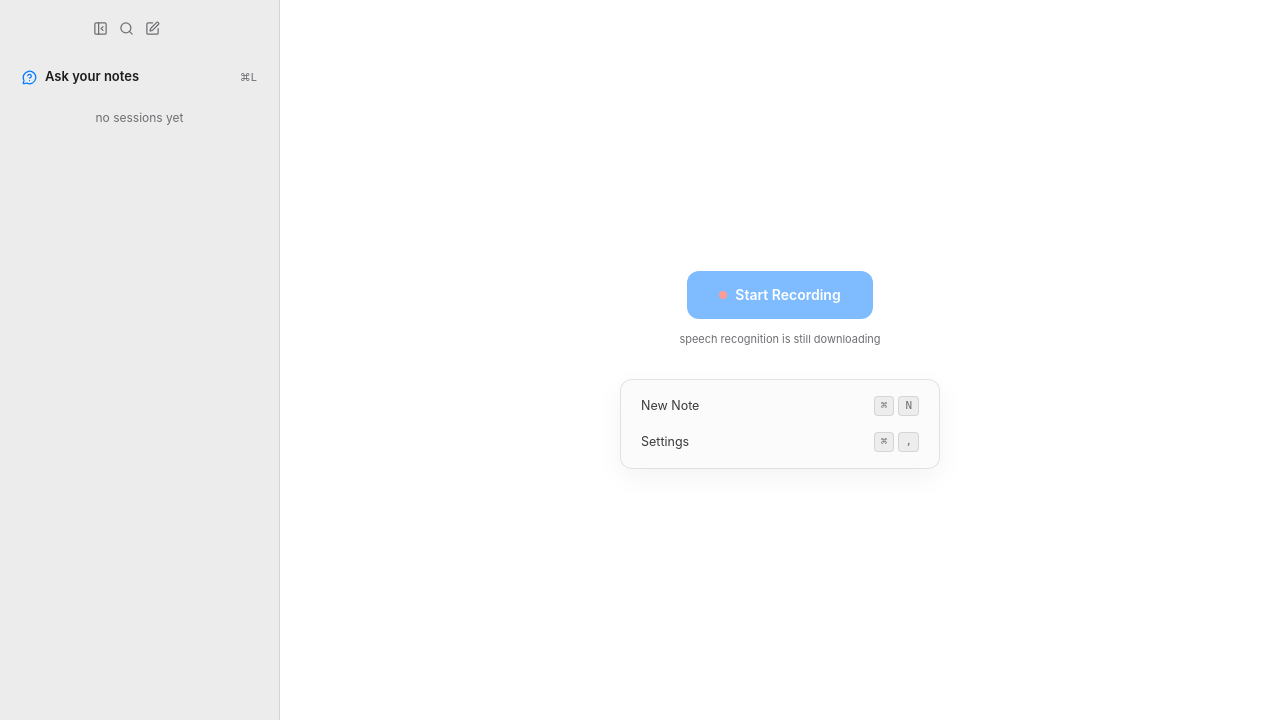
Test: App: call detection via the banner window › does not duplicate the model warning beside its toolbar action
Expected: the text "speech recognition is still downloading" is shown, [679, 331, 881, 347]
Click the button named "New Note⌘N" at (670, 405), box [629, 388, 931, 424]
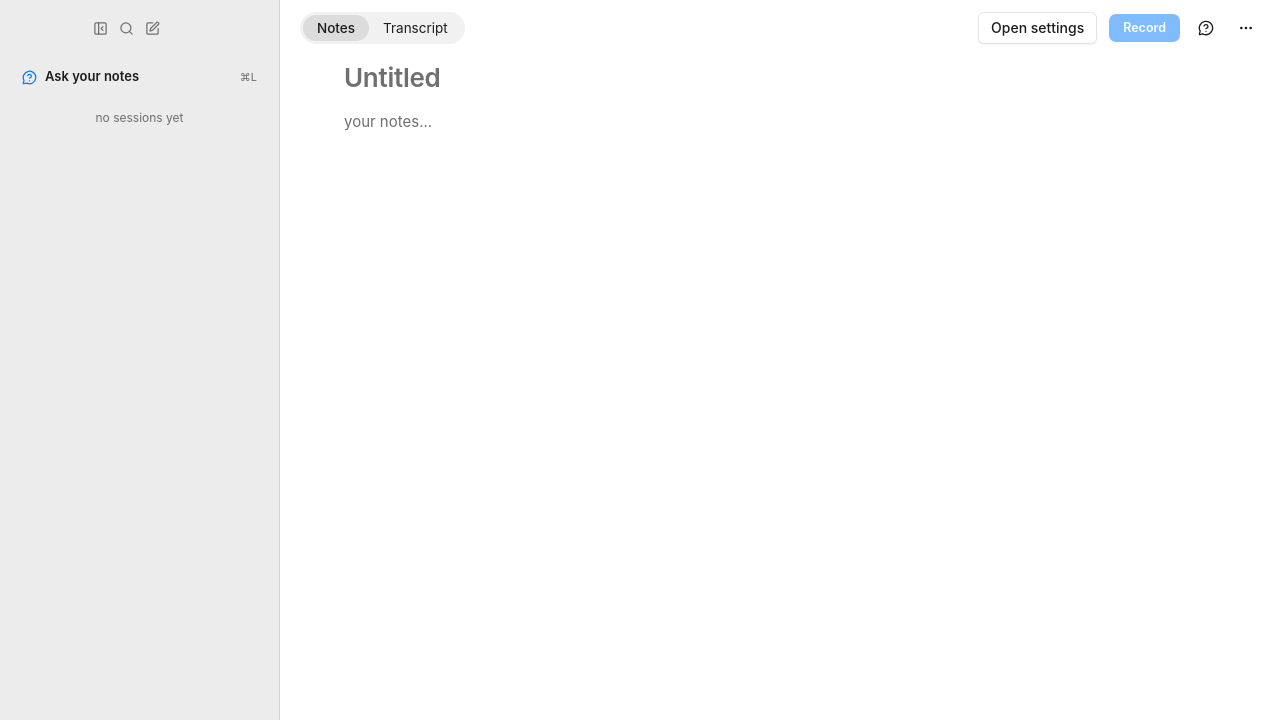
Result: the button "Open settings" is shown at [978, 12, 1097, 44]
Result: the text "speech recognition is still downloading" is gone
